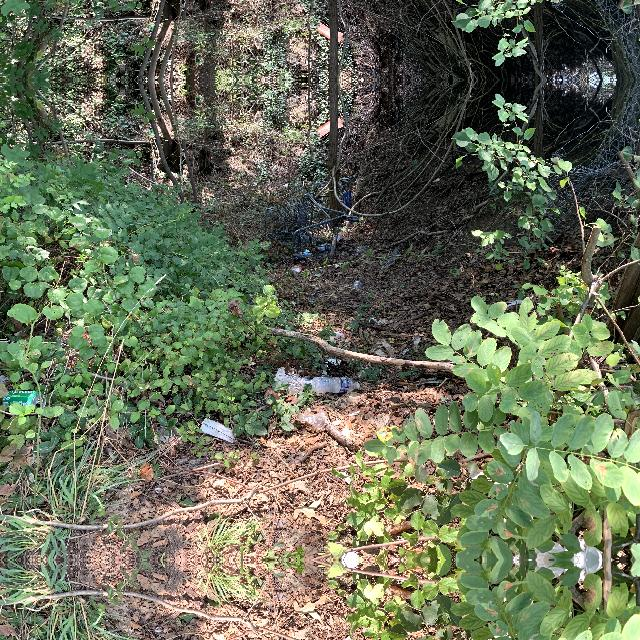Metal: (4, 388, 44, 414)
Paper: (283, 370, 307, 386), (330, 332, 344, 342)
Plastic: (314, 371, 360, 399), (351, 280, 364, 294)
